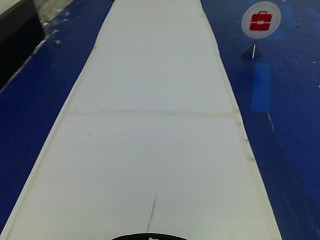company: (239, 0, 280, 40)
